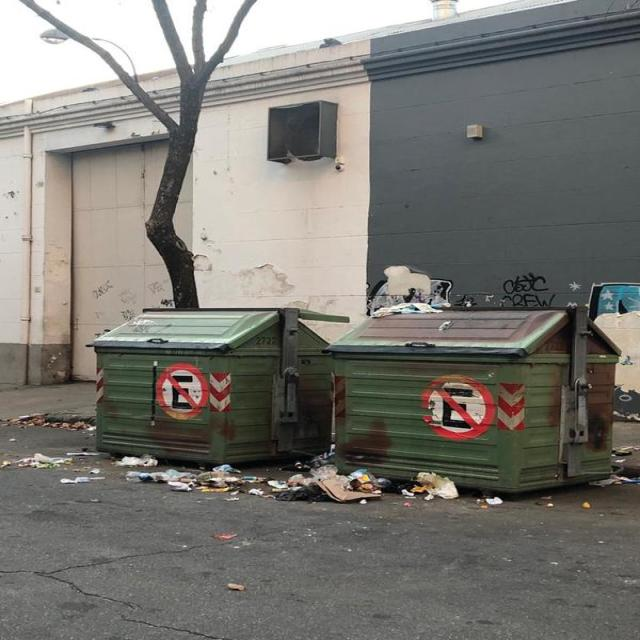garbage: (270, 456, 473, 508), (101, 449, 267, 504), (0, 438, 105, 490), (0, 407, 105, 434), (371, 297, 454, 322)
